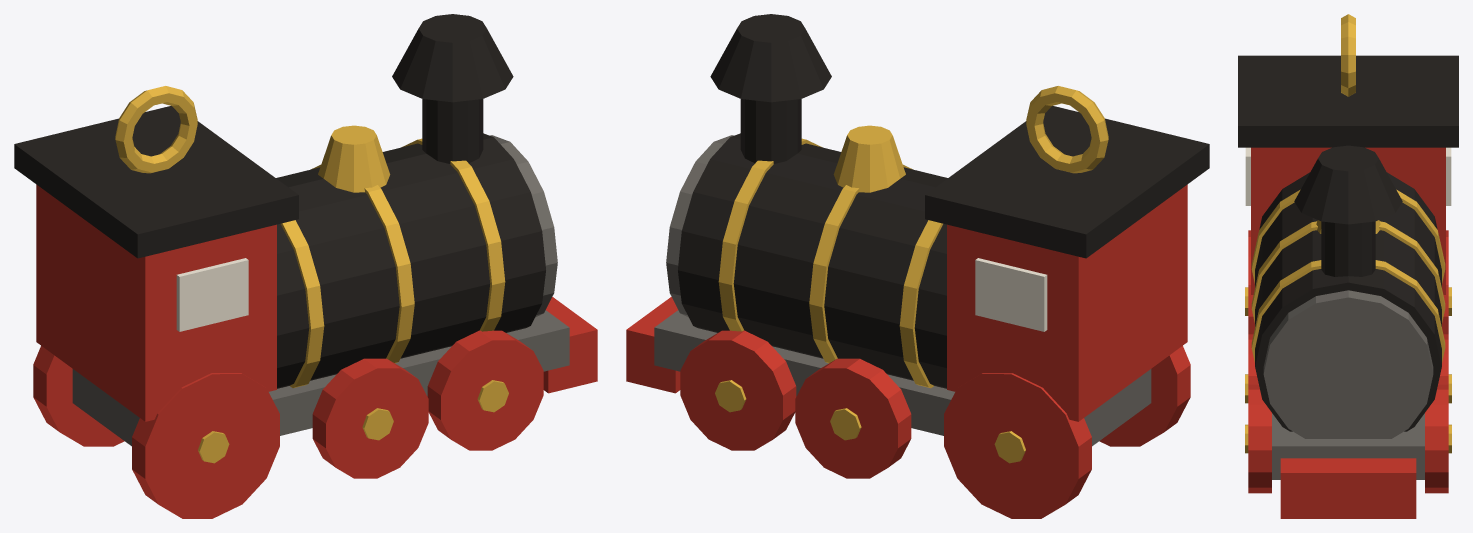
Rendered from charm_locomotiva.glb.
The picture shows the model from 3 angles, left to right: view 1: azimuth 30°, elevation 25°; view 2: azimuth 150°, elevation 25°; view 3: azimuth 270°, elevation 25°; orthographic projection. The views are drawn at different scales.
Visible parts, largest first — view 1: caldeira, rodas, cabine, teto, chamine, cintas, chassi, janelas, argola, domo, limpa, cubos (+1 smaller); view 2: caldeira, rodas, cabine, teto, chamine, cintas, chassi, janelas, argola, domo, limpa, cubos (+1 smaller); view 3: frente, teto, caldeira, chamine, limpa, cabine, rodas, cintas, chassi, argola, cubos, janelas.
Boxes of the visible parts, bbox=[...] form: caldeira: bbox=[276, 133, 545, 388]; rodas: bbox=[33, 330, 543, 518]; cabine: bbox=[36, 184, 276, 421]; teto: bbox=[14, 106, 298, 258]; chamine: bbox=[392, 14, 513, 163]; cintas: bbox=[281, 138, 505, 388]; chassi: bbox=[72, 310, 569, 446]; janelas: bbox=[176, 258, 248, 331]; argola: bbox=[115, 86, 197, 173]; domo: bbox=[318, 125, 390, 192]; limpa: bbox=[543, 297, 597, 393]; cubos: bbox=[198, 380, 508, 463]; caldeira: bbox=[678, 133, 947, 388]; rodas: bbox=[680, 330, 1190, 518]; cabine: bbox=[947, 184, 1187, 421]; teto: bbox=[925, 106, 1209, 258]; chamine: bbox=[710, 14, 831, 163]; cintas: bbox=[718, 138, 942, 388]; chassi: bbox=[654, 310, 1151, 446]; janelas: bbox=[975, 258, 1047, 331]; argola: bbox=[1026, 86, 1108, 173]; domo: bbox=[833, 125, 905, 192]; limpa: bbox=[626, 297, 680, 393]; cubos: bbox=[715, 380, 1025, 463]; frente: bbox=[1263, 290, 1433, 438]; teto: bbox=[1238, 55, 1458, 147]; caldeira: bbox=[1255, 172, 1441, 431]; chamine: bbox=[1294, 145, 1402, 276]; limpa: bbox=[1280, 458, 1416, 518]; cabine: bbox=[1251, 147, 1445, 294]; rodas: bbox=[1248, 230, 1448, 493]; cintas: bbox=[1251, 189, 1445, 362]; chassi: bbox=[1272, 413, 1424, 479]; argola: bbox=[1341, 14, 1355, 96]; cubos: bbox=[1245, 287, 1451, 453]; janelas: bbox=[1245, 147, 1451, 205].
Bounding box in the file's own units: 2.94 × 2.26 × 1.3.
